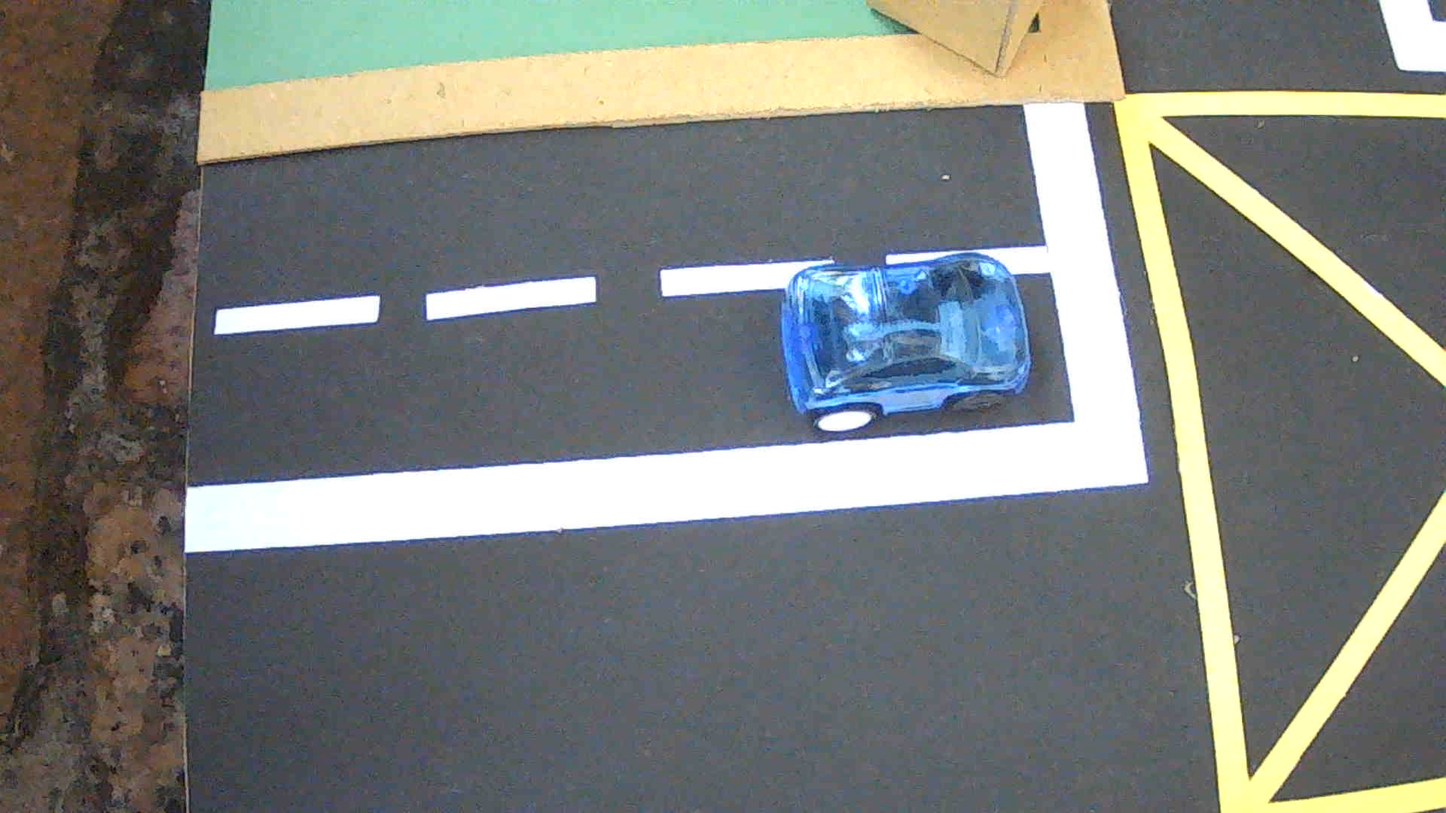Mobil biru: (780, 252, 1032, 430)
